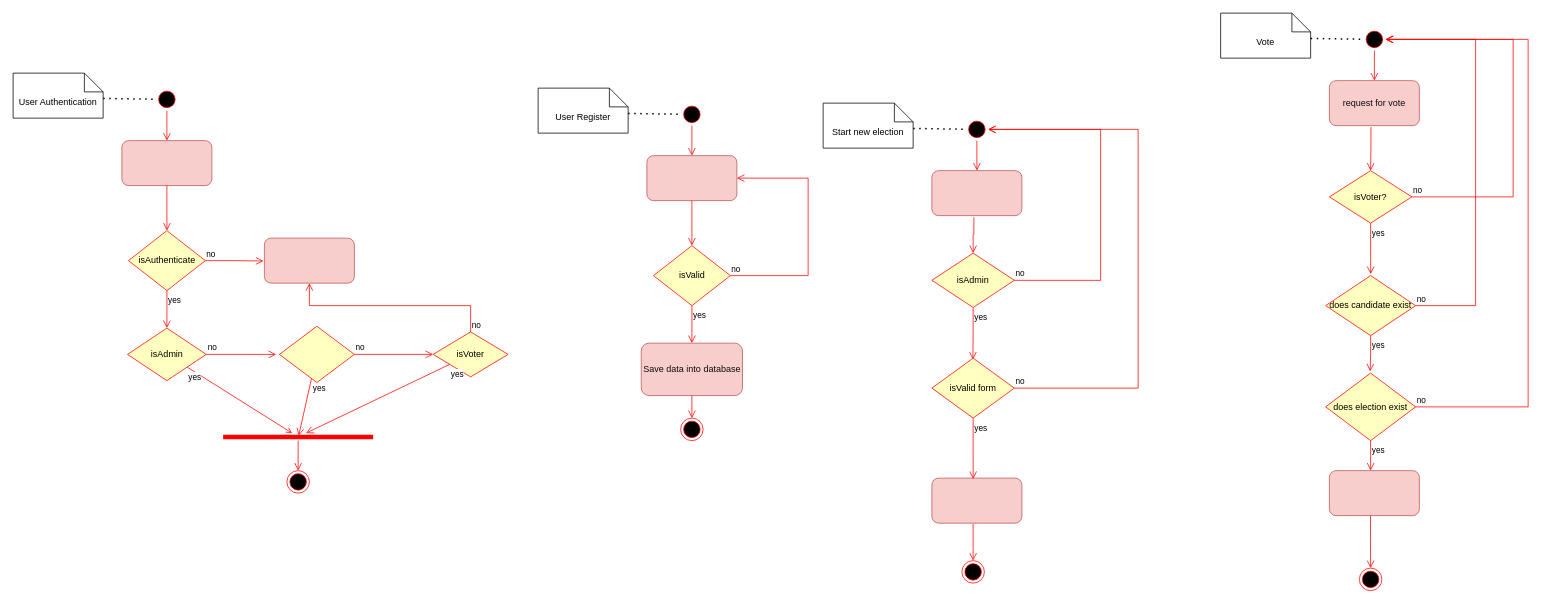
Some shapes in this 1549 by 604 pixel diagram are drawn without their labels. The centre of each missing label's shape, as x and y in pixels:
"isCandidate" belongs at point 316,354.
"Login request" belongs at point 166,163.
"request new election" belongs at point 976,193.
"Request registration" belongs at point 691,178.
"save election data into database" belongs at point 976,500.
"save voted data into database" belongs at point 1374,493.
"Unauthorized user" belongs at point 309,260.
